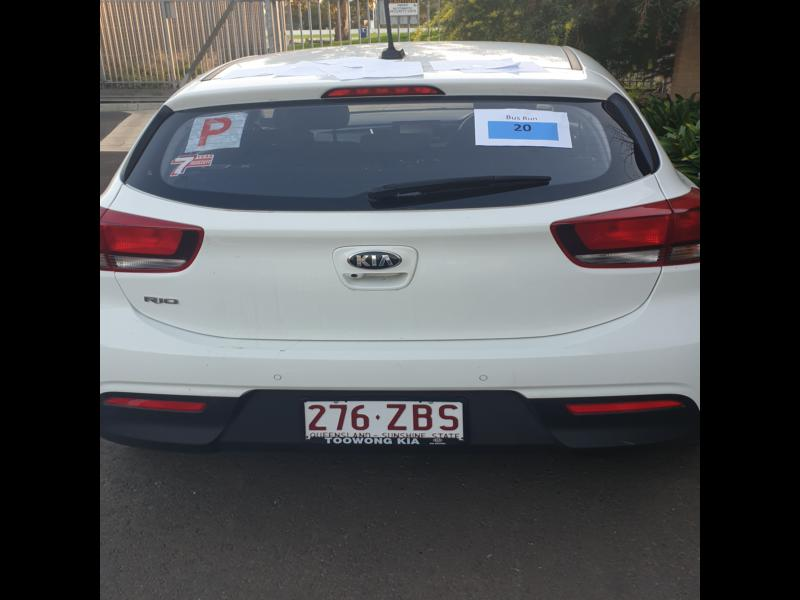BusRun: (489, 119, 559, 141)
PlateNo: (302, 398, 466, 438)
